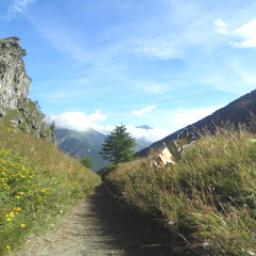Swallow: (153, 129, 195, 169)
